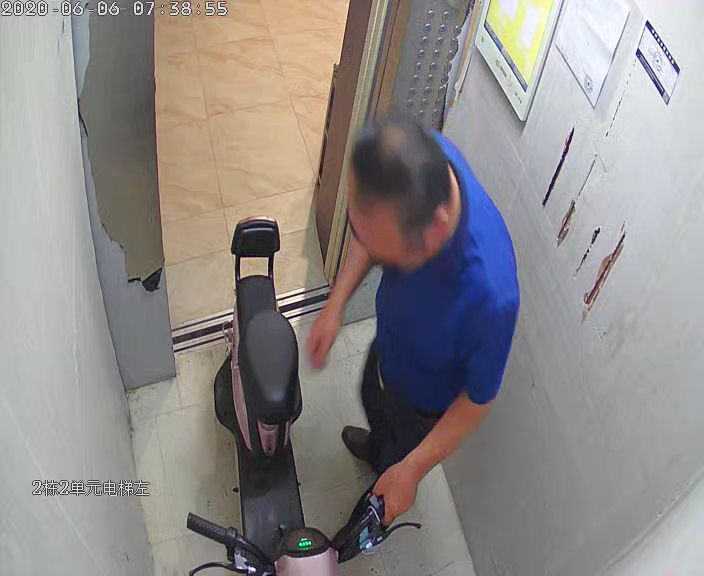Electric-bicycle: (185, 215, 422, 576)
